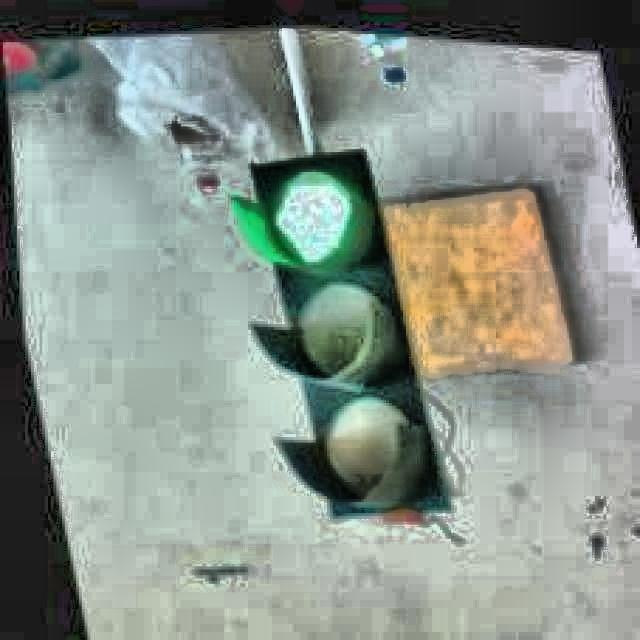green: (246, 154, 452, 512)
